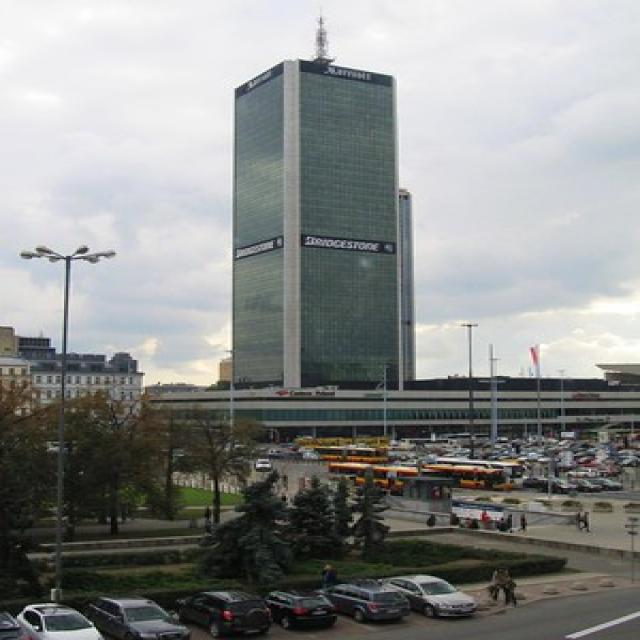building: (221, 55, 415, 399)
